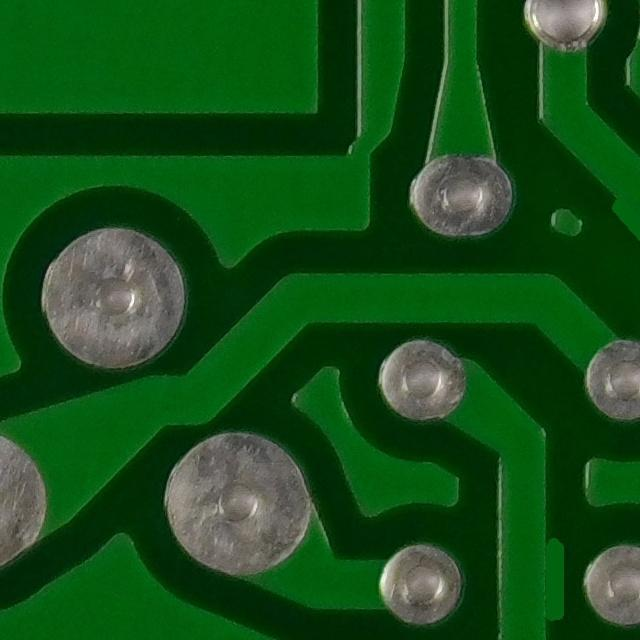spur: (510, 521, 577, 639)
